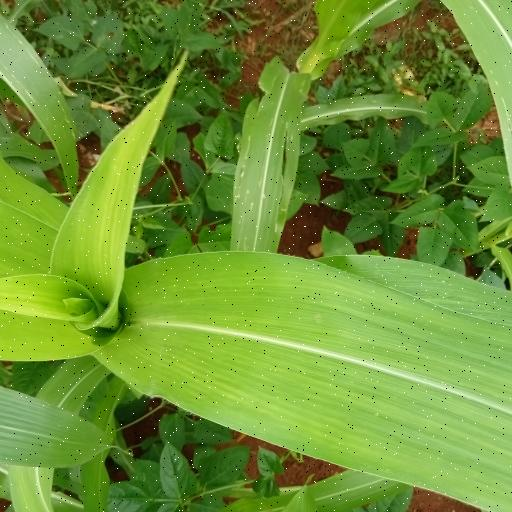Corn_Brown_Spots: (117, 259, 512, 512)
